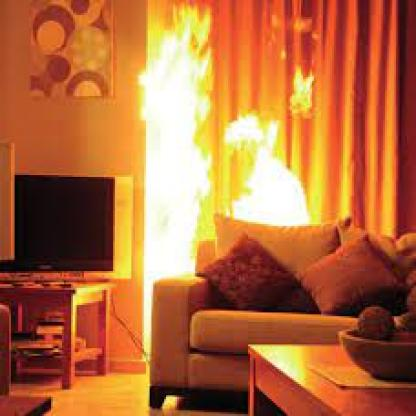fire: (132, 6, 221, 354), (222, 63, 320, 223)
